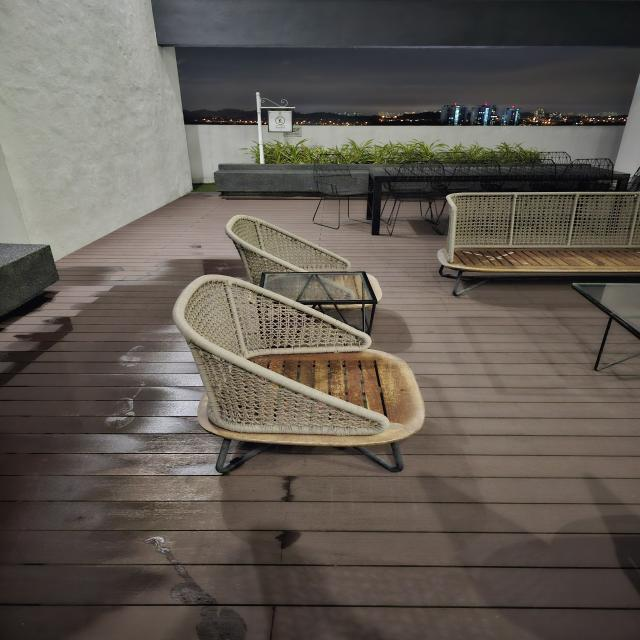obstacle: (170, 219, 423, 477), (207, 90, 428, 238), (434, 189, 638, 299), (0, 216, 66, 318), (568, 280, 638, 374)
